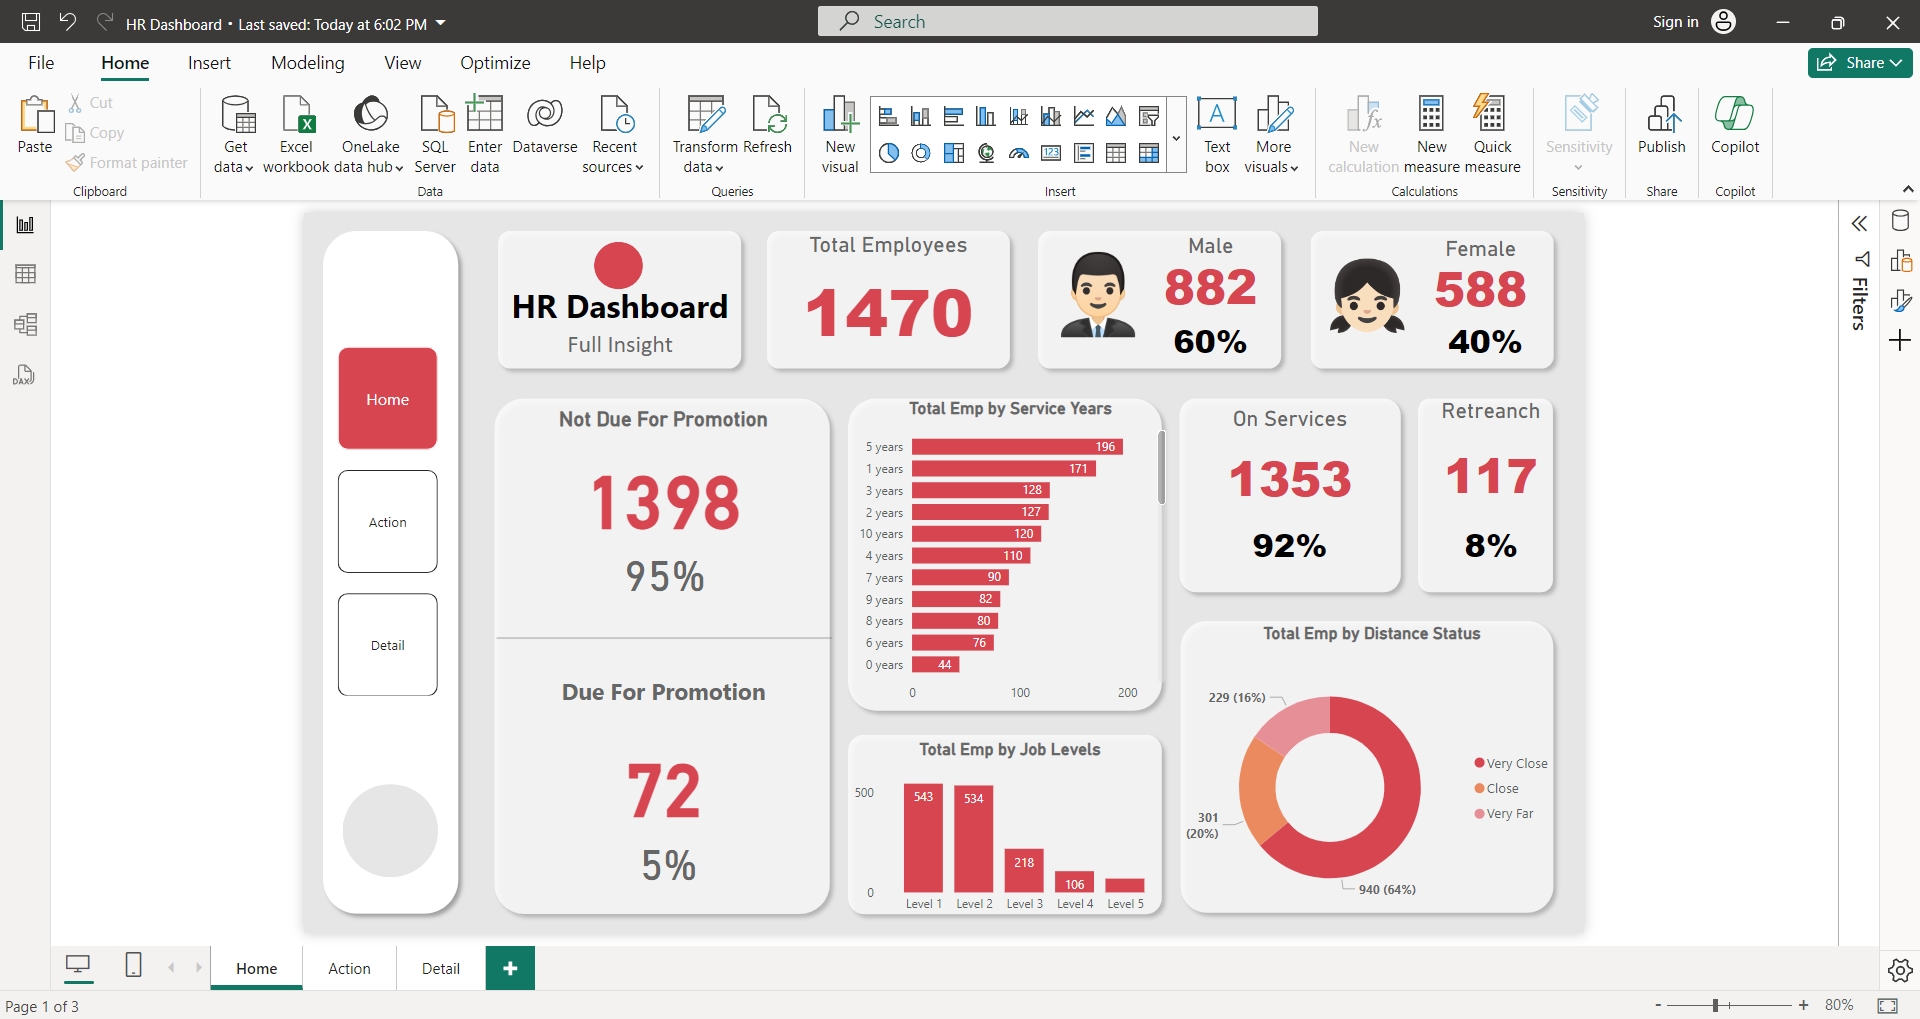

Layout of this report page (visuals, bound fields, positions):
{"tool":"powerbi","page":{"name":"Home","canvas":[1280,720],"ordinal":0},"visuals":[{"type":"shape","box":[9.7,8.4,153.2,700.9],"z":0},{"type":"shape","box":[184.7,8.7,261.1,155.8],"z":1000},{"type":"shape","box":[453.5,8.7,261.1,155.8],"z":2000},{"type":"shape","box":[725.2,8.7,261.1,155.8],"z":3000},{"type":"shape","box":[996.9,8.7,261.1,155.8],"z":4000},{"type":"shape","box":[181.8,176,353.5,533.8],"z":5000},{"type":"shape","box":[535.3,176,331.8,330.4],"z":6000},{"type":"shape","box":[535.3,512.2,331.8,197.7],"z":7000},{"type":"shape","box":[867.4,399.3,390.9,310.1],"z":8000},{"type":"shape","box":[865.7,176,239.5,212.1],"z":9000},{"type":"shape","box":[1105.2,176,152.9,212.1],"z":10000},{"type":"textbox","box":[191.3,66.7,249.6,75],"z":11000},{"type":"textbox","box":[191.3,111.4,249.6,62],"z":12000},{"type":"shape","box":[290,28.9,49.1,47.6],"z":13000},{"type":"card","title":"Total Employees","fields":{"Values":["All Measures.Total Emp"]},"box":[462.1,19.3,243.7,133.9],"z":14000},{"type":"card","title":"Male","fields":{"Values":["All Measures.Male"]},"box":[846.2,19.9,120.9,83.9],"z":15000},{"type":"card","fields":{"Values":["All Measures.% Male"]},"box":[846.2,103.8,120.9,49.8],"z":16000},{"type":"card","title":"Female","fields":{"Values":["All Measures.Female"]},"box":[1115.6,21.9,120.9,83.9],"z":17000},{"type":"card","fields":{"Values":["All Measures.% Female"]},"box":[1120.7,103.8,120.9,49.8],"z":18000},{"type":"image","box":[1020.6,39.8,84.5,85.7],"z":19000},{"type":"image","box":[744.4,29,101.3,105],"z":20000},{"type":"card","title":"Not Due For Promotion","fields":{"Values":["All Measures.Not Due"]},"box":[193.4,193.4,331.4,147.9],"z":21000},{"type":"card","fields":{"Values":["All Measures.% Not Due"]},"box":[194.8,304.4,331.4,110.9],"z":22000},{"type":"card","title":"Due For Promotion","fields":{"Values":["All Measures.Due Promotion"]},"box":[193.4,462.2,331.4,186.3],"z":23000},{"type":"card","fields":{"Values":["All Measures.% Due Promotion"]},"box":[192,574.6,342.8,145.1],"z":24000},{"type":"shape","box":[192,274.5,335.6,300.1],"z":25000},{"type":"clusteredBarChart","fields":{"Category":["HR Analytics Data.Service Years"],"Y":["All Measures.Total Emp"]},"box":[546.5,184.6,320.9,313.7],"z":26000},{"type":"columnChart","fields":{"Category":["HR Analytics Data.Job Levels"],"Y":["All Measures.Total Emp"]},"box":[545.3,526,322.1,183.4],"z":27000},{"type":"card","title":"On Services","fields":{"Values":["All Measures.On Service"]},"box":[875.9,193,219.6,124.3],"z":28000},{"type":"card","fields":{"Values":["All Measures.% On Services"]},"box":[875.9,292,219.6,78.4],"z":29000},{"type":"card","title":"Retreanch","fields":{"Values":["All Measures.Will Be Retreanch"]},"box":[1116,184.6,141.2,132.7],"z":30000},{"type":"card","fields":{"Values":["All Measures.% Will Be Retreanch"]},"box":[1116,287.1,142.4,89.3],"z":31000},{"type":"donutChart","fields":{"Category":["HR Analytics Data.Distance Status"],"Y":["All Measures.Total Emp"]},"box":[877.1,410.2,381.2,310.1],"z":32000},{"type":"shape","box":[38.6,570.6,95.3,92.9],"z":33000},{"type":"pageNavigator","box":[33.8,133.8,100,351.2],"z":33001}]}

Visuals, with their boxes on the page's 1280x720 design canvas (x1, y1, x2, y2). These are canvas units, not pixel positions in the 1920x1019 screenshot, which may show the page scaled, cropped or inside an application window:
shape: pyautogui.locateOnScreen(10, 8, 163, 709)
shape: pyautogui.locateOnScreen(185, 9, 446, 164)
shape: pyautogui.locateOnScreen(454, 9, 715, 164)
shape: pyautogui.locateOnScreen(725, 9, 986, 164)
shape: pyautogui.locateOnScreen(997, 9, 1258, 164)
shape: pyautogui.locateOnScreen(182, 176, 535, 710)
shape: pyautogui.locateOnScreen(535, 176, 867, 506)
shape: pyautogui.locateOnScreen(535, 512, 867, 710)
shape: pyautogui.locateOnScreen(867, 399, 1258, 709)
shape: pyautogui.locateOnScreen(866, 176, 1105, 388)
shape: pyautogui.locateOnScreen(1105, 176, 1258, 388)
textbox: pyautogui.locateOnScreen(191, 67, 441, 142)
textbox: pyautogui.locateOnScreen(191, 111, 441, 173)
shape: pyautogui.locateOnScreen(290, 29, 339, 76)
"Total Employees" card: pyautogui.locateOnScreen(462, 19, 706, 153)
"Male" card: pyautogui.locateOnScreen(846, 20, 967, 104)
card - All Measures.% Male: pyautogui.locateOnScreen(846, 104, 967, 154)
"Female" card: pyautogui.locateOnScreen(1116, 22, 1236, 106)
card - All Measures.% Female: pyautogui.locateOnScreen(1121, 104, 1242, 154)
image: pyautogui.locateOnScreen(1021, 40, 1105, 126)
image: pyautogui.locateOnScreen(744, 29, 846, 134)
"Not Due For Promotion" card: pyautogui.locateOnScreen(193, 193, 525, 341)
card - All Measures.% Not Due: pyautogui.locateOnScreen(195, 304, 526, 415)
"Due For Promotion" card: pyautogui.locateOnScreen(193, 462, 525, 648)
card - All Measures.% Due Promotion: pyautogui.locateOnScreen(192, 575, 535, 720)
shape: pyautogui.locateOnScreen(192, 274, 528, 575)
clusteredBarChart - HR Analytics Data.Service Years x All Measures.Total Emp: pyautogui.locateOnScreen(546, 185, 867, 498)
columnChart - HR Analytics Data.Job Levels x All Measures.Total Emp: pyautogui.locateOnScreen(545, 526, 867, 709)
"On Services" card: pyautogui.locateOnScreen(876, 193, 1096, 317)
card - All Measures.% On Services: pyautogui.locateOnScreen(876, 292, 1096, 370)
"Retreanch" card: pyautogui.locateOnScreen(1116, 185, 1257, 317)
card - All Measures.% Will Be Retreanch: pyautogui.locateOnScreen(1116, 287, 1258, 376)
donutChart - HR Analytics Data.Distance Status x All Measures.Total Emp: pyautogui.locateOnScreen(877, 410, 1258, 720)
shape: pyautogui.locateOnScreen(39, 571, 134, 664)
pageNavigator: pyautogui.locateOnScreen(34, 134, 134, 485)
